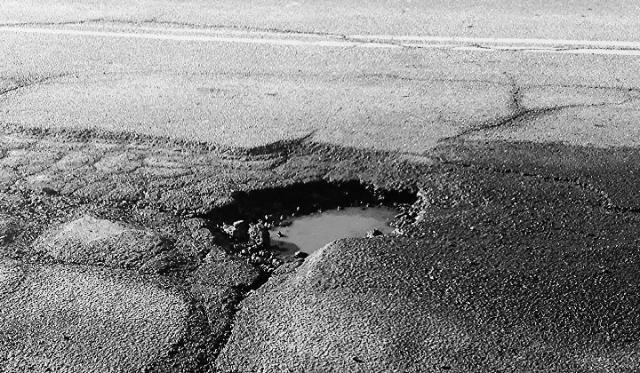Pothole: (204, 177, 420, 261)
